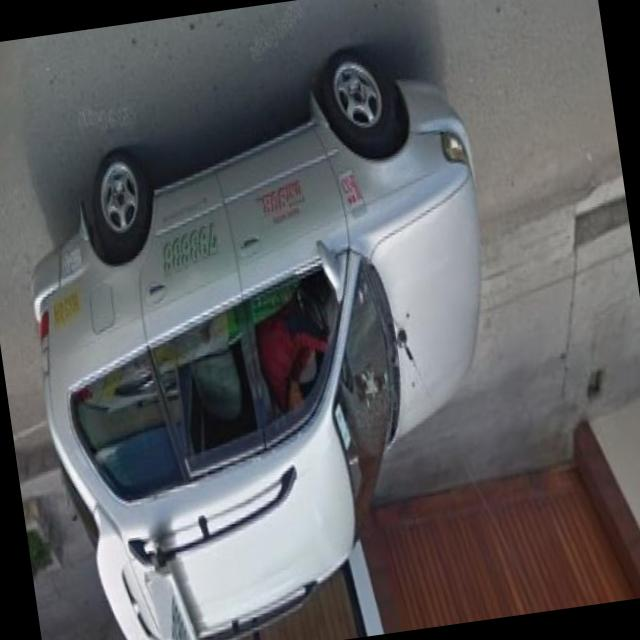car: (0, 26, 534, 640)
